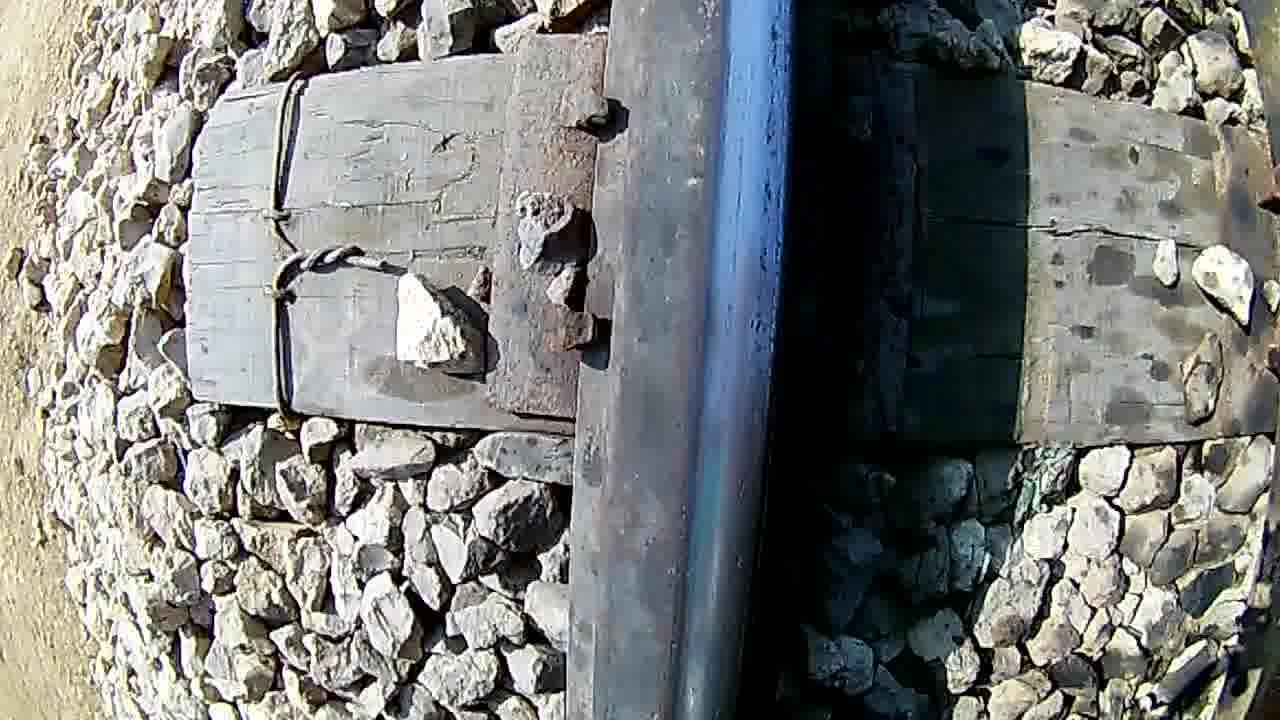crack: (624, 0, 793, 720)
